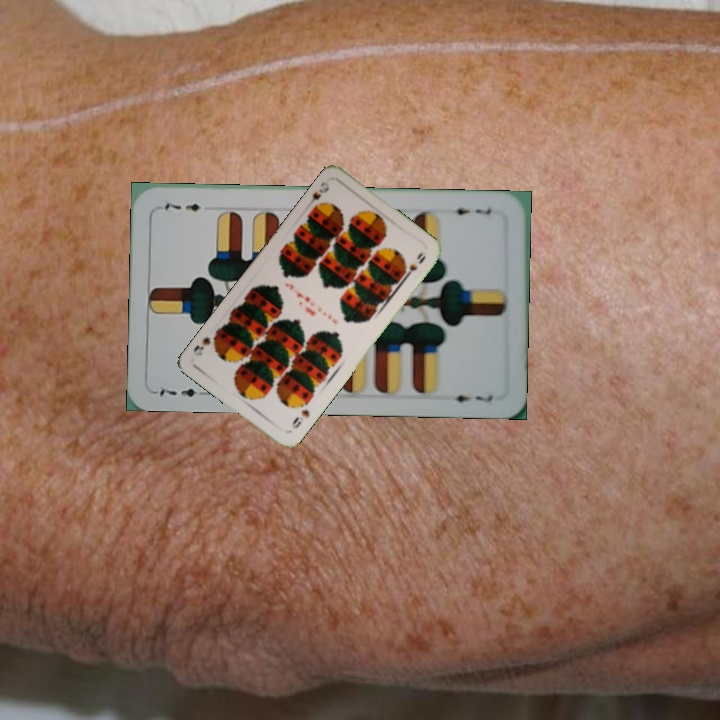E7: (151, 384, 210, 400), (446, 202, 495, 217)
S9: (302, 178, 332, 213), (288, 405, 312, 431)
